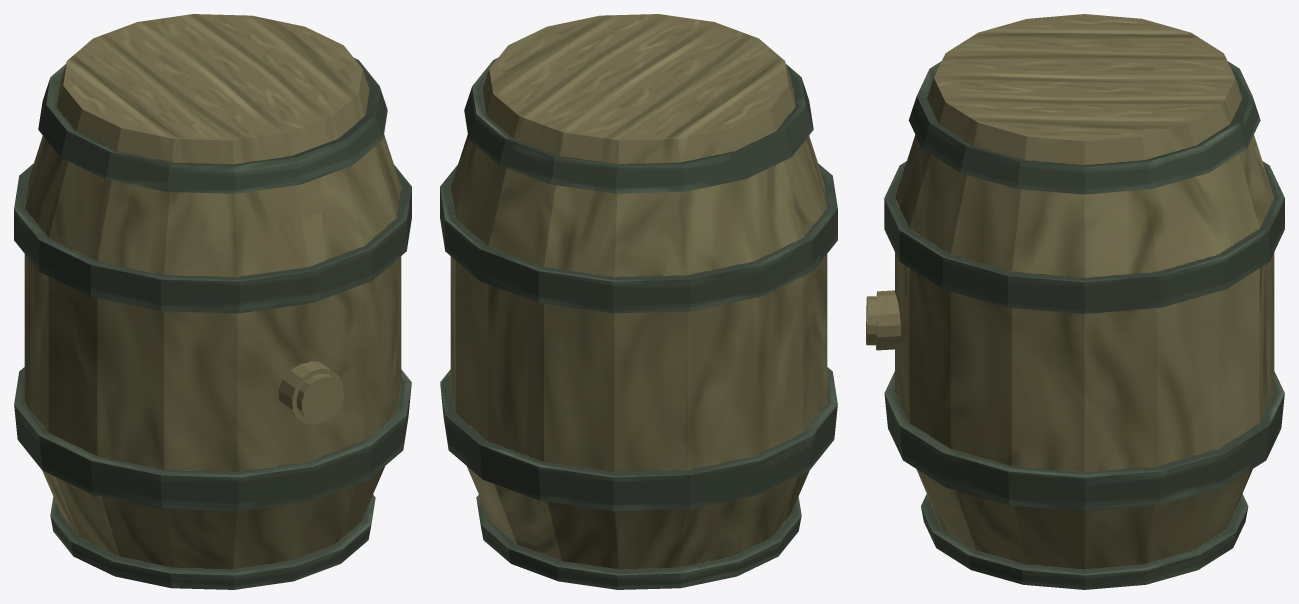
Rendered from barril.fbx.
3 renders of one model, left to right at view 1: azimuth 30°, elevation 25°; view 2: azimuth 150°, elevation 25°; view 3: azimuth 270°, elevation 25°, orthographic.
Parts seen in each view (by area): view 1: barril; view 2: barril; view 3: barril.
Boxes of the visible parts, left/top/right/bottom form: barril: left=14, top=14, right=411, bottom=589; barril: left=440, top=14, right=837, bottom=589; barril: left=866, top=14, right=1284, bottom=589.
Bounding box in the file's own units: 313 × 383 × 327.
